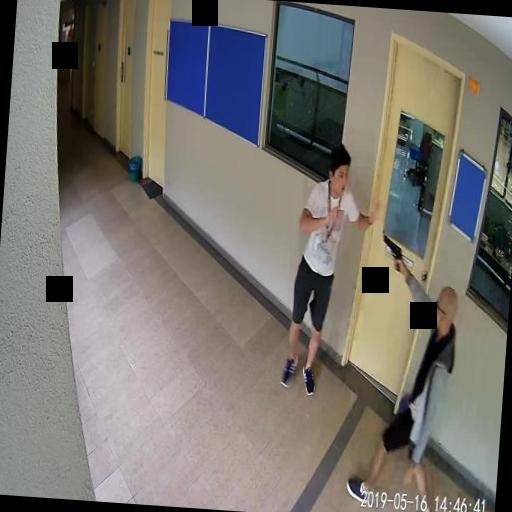Handgun: (375, 232, 406, 274)
